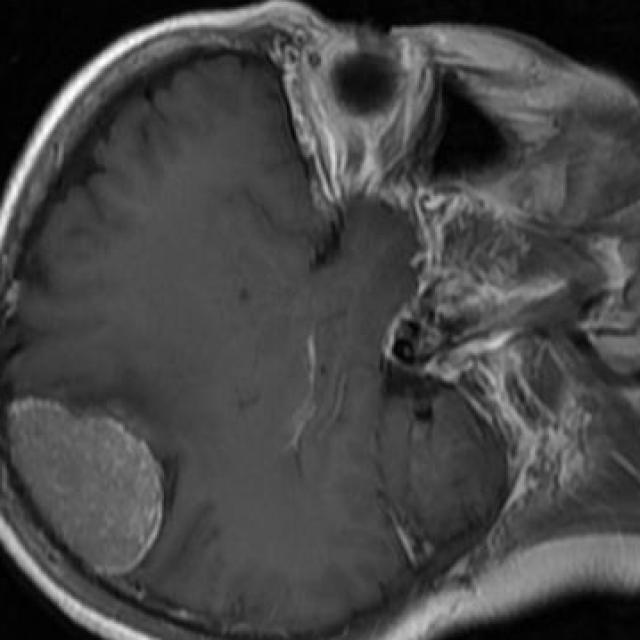meningioma: (9, 398, 164, 572)
